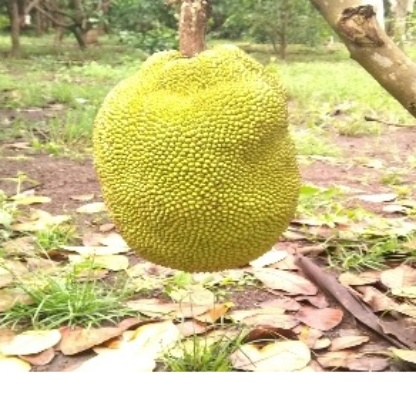mit: (88, 47, 315, 290)
